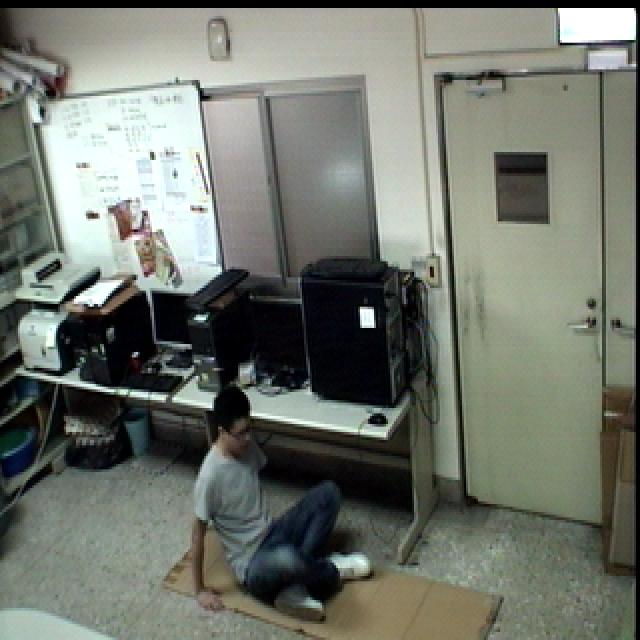sit: (188, 383, 380, 627)
